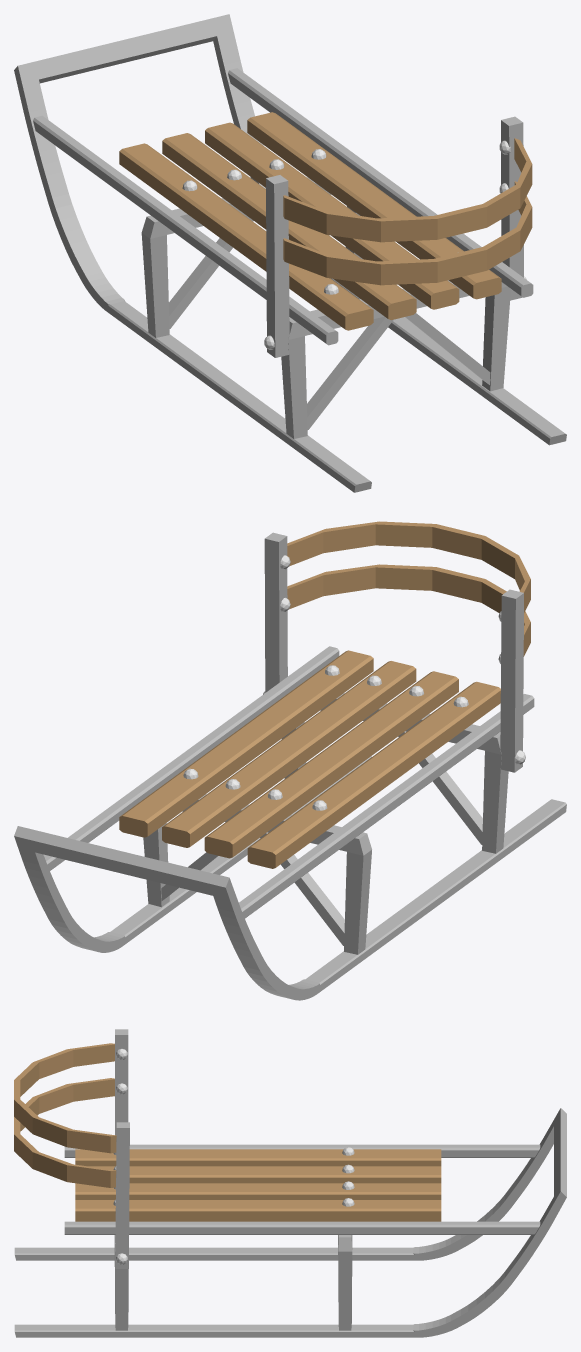
Rendered from Sleigh.fbx.
The picture shows the model from 3 angles, top to bottom: view 1: azimuth 30°, elevation 25°; view 2: azimuth 150°, elevation 25°; view 3: azimuth 270°, elevation 25°; orthographic projection. The views are drawn at different scales.
Visible parts, largest first — view 1: Cube.001, Circle, Icosphere.008; view 2: Circle, Cube.001, Icosphere.008; view 3: Circle, Cube.001, Icosphere.008.
Boxes of the visible parts, box(x1,y1,x2,y2) form: Cube.001: box(14, 14, 566, 492); Circle: box(119, 112, 532, 330); Icosphere.008: box(182, 140, 526, 294); Circle: box(119, 521, 530, 868); Cube.001: box(14, 532, 566, 1000); Icosphere.008: box(183, 555, 501, 810); Circle: box(14, 1043, 441, 1221); Cube.001: box(14, 1029, 566, 1337); Icosphere.008: box(113, 1049, 354, 1264).
Size of the model in its own units: 519 by 509 by 1175.
